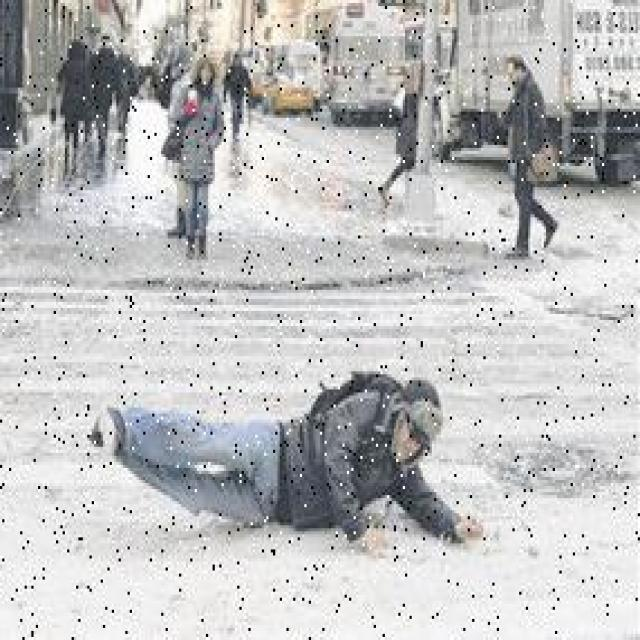fall: (92, 357, 470, 540)
